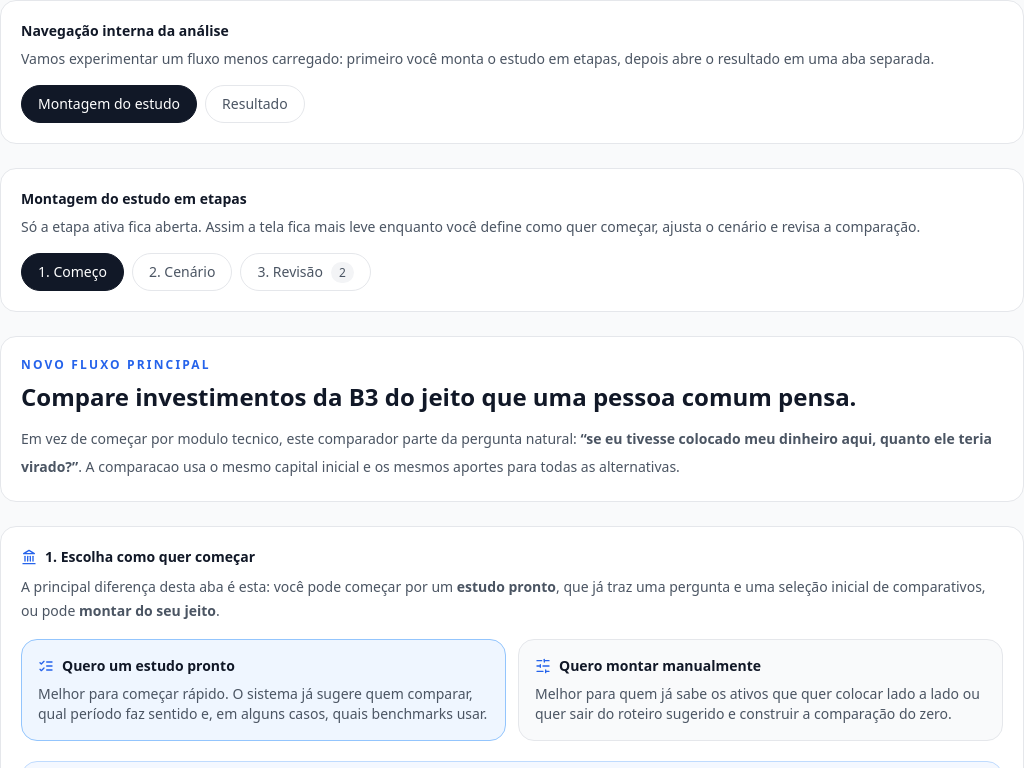
Scenario: InvestmentsWorkspace › switches to manual mode and opens the asset editor explicitly
Click the button "Quero montar manualmente". click: (760, 690)
box: [518,639,1003,741]
(page scrolled)
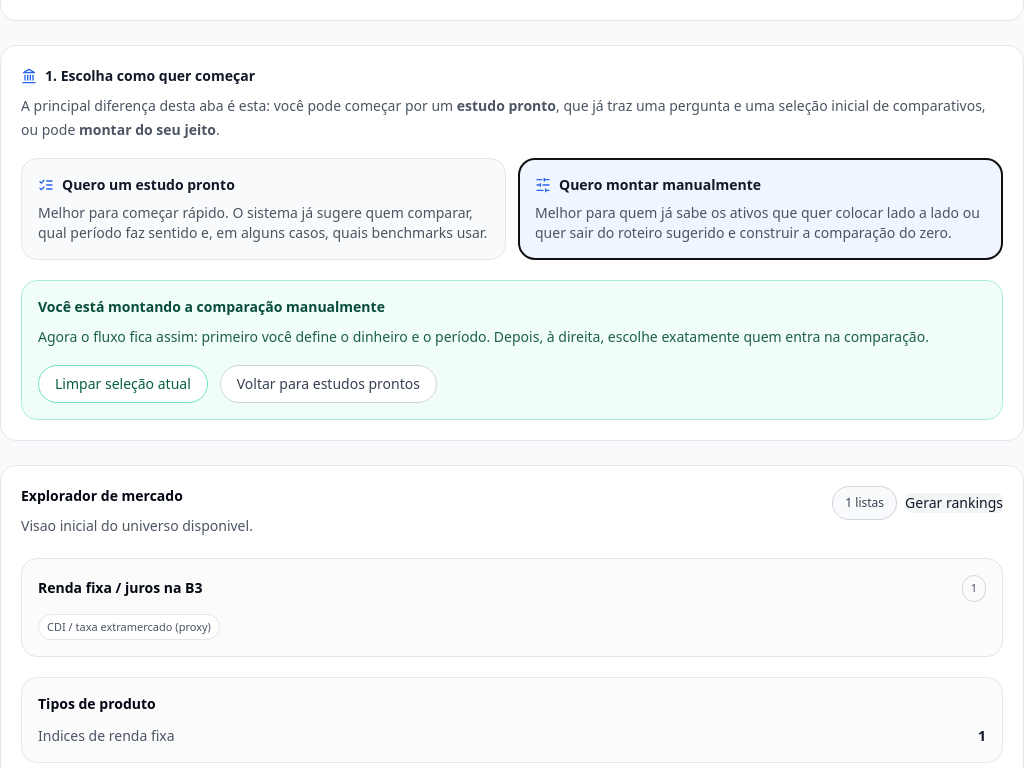
expect the text "Você está montando a comparação manualmente" is shown: met, box [38,297,385,316]
expect the button "Voltar para estudos prontos" is shown: met, box [220,365,437,403]
